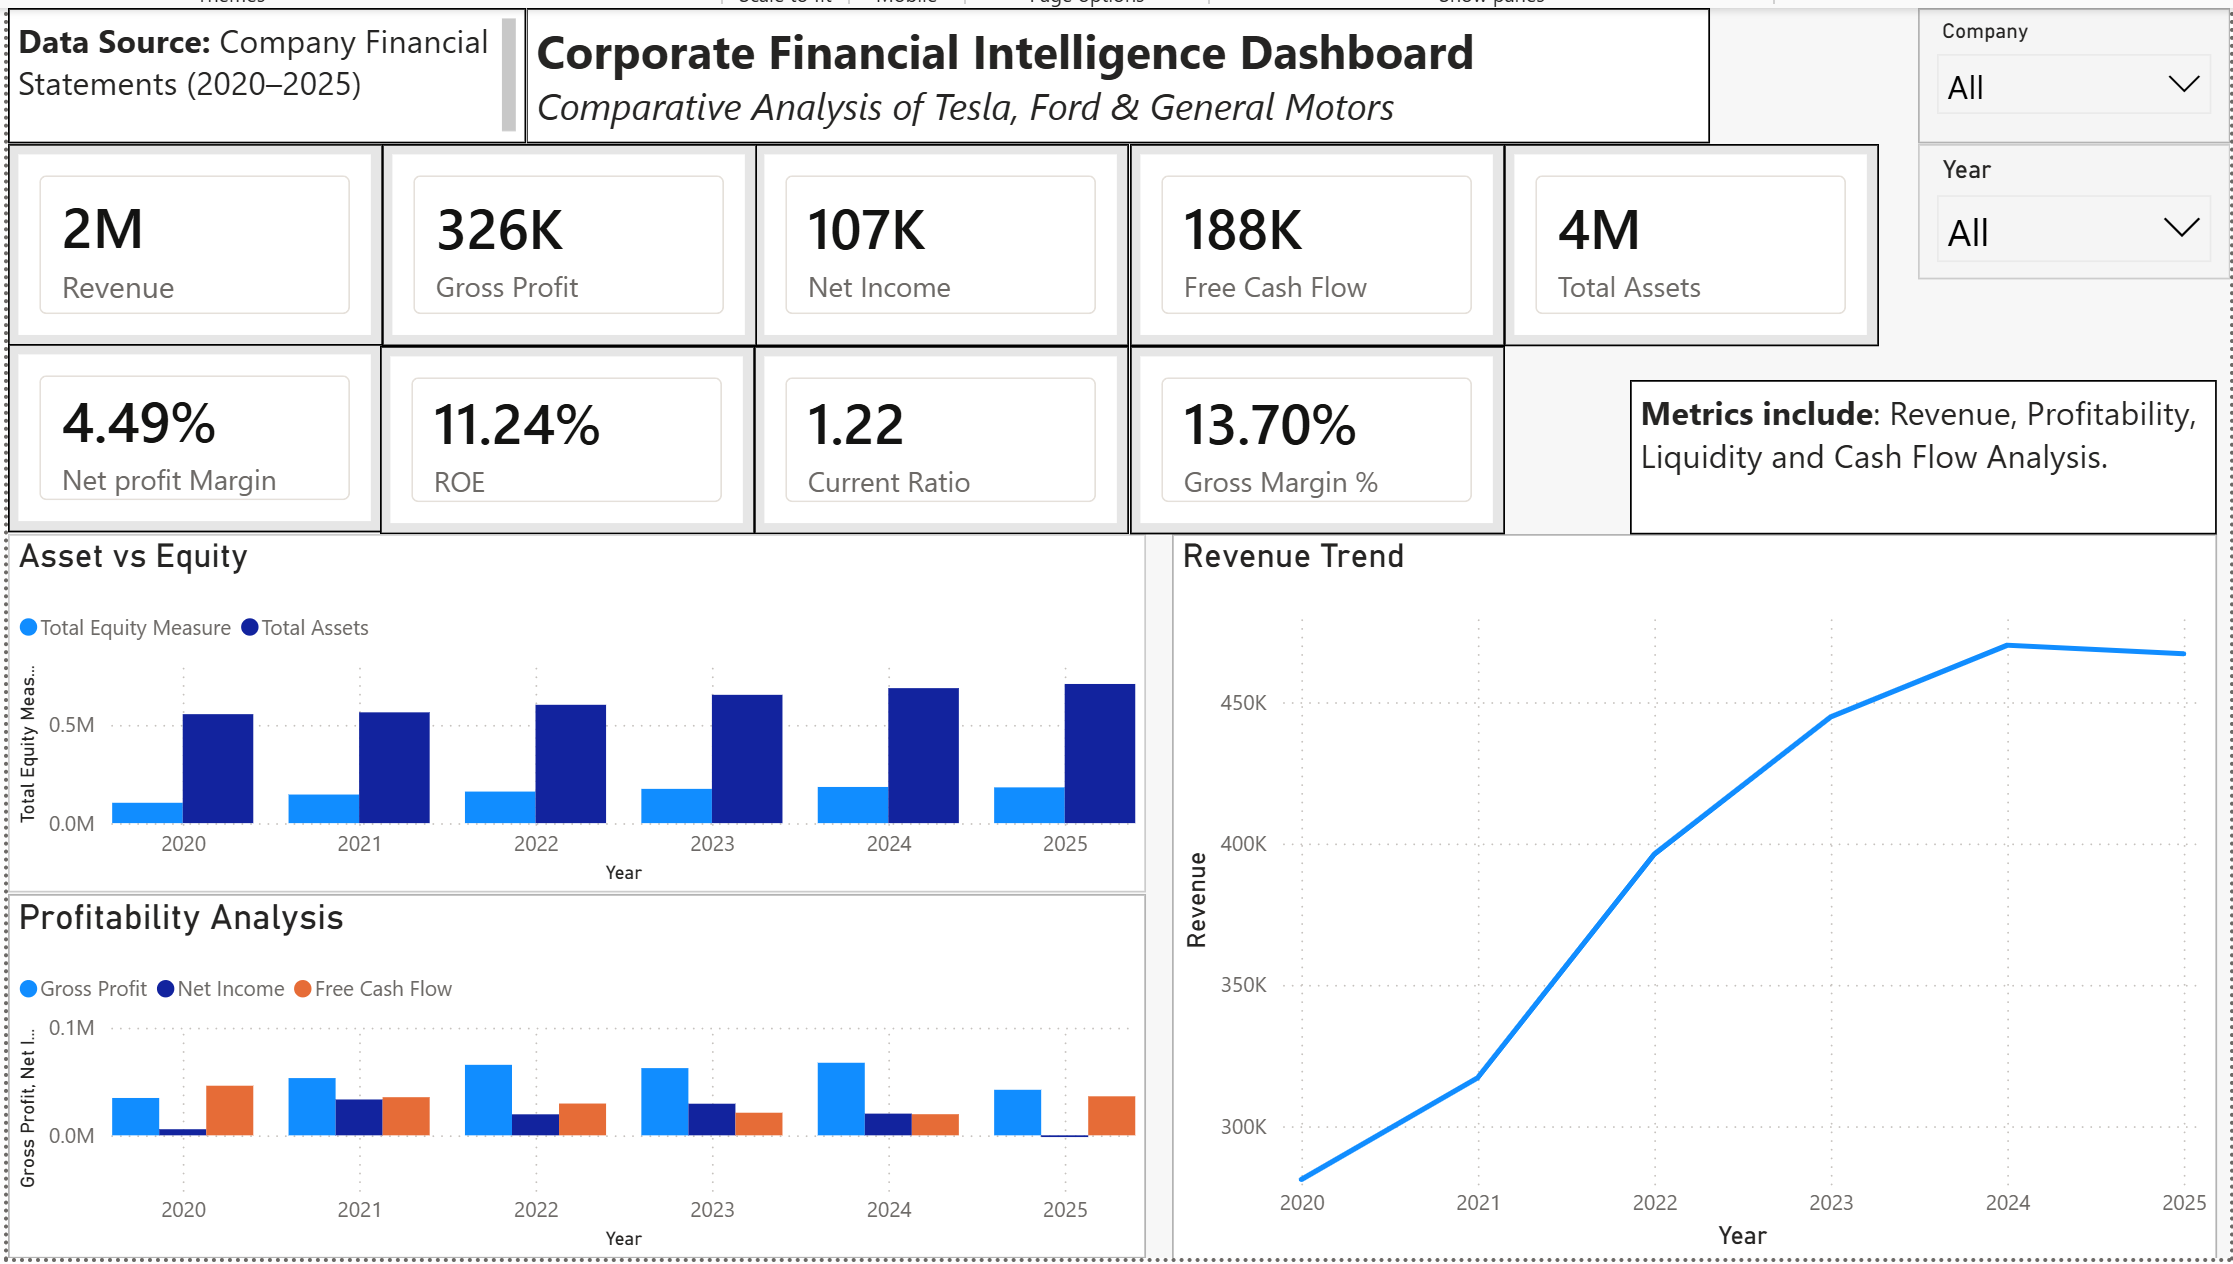

This screenshot's page, from the dashboard's own definition file:
{"tool":"powerbi","page":{"name":"Executive Overview","canvas":[1280,720],"ordinal":0},"visuals":[{"type":"cardVisual","fields":{"Data":["Income_Statement.Revenue Measure"]},"box":[0,77.8,215.9,116.4],"z":0},{"type":"cardVisual","fields":{"Data":["Income_Statement.Net Income Measure"]},"box":[429.6,77.8,215.9,116.4],"z":1000},{"type":"cardVisual","fields":{"Data":["Income_Statement.Gross Profit Measure"]},"box":[215.5,77.8,215.9,116.4],"z":2000},{"type":"cardVisual","fields":{"Data":["Income_Statement.Total Assets Measure"]},"box":[861.8,77.8,215.9,116.4],"z":3000},{"type":"cardVisual","fields":{"Data":["Income_Statement.Net profit Margin"]},"box":[0,193.8,215.9,108.7],"z":4000},{"type":"cardVisual","fields":{"Data":["Balance_Sheet.ROE"]},"box":[214.2,195.1,215.9,108.7],"z":5000},{"type":"cardVisual","fields":{"Data":["Balance_Sheet.Current Ratio"]},"box":[429.6,195.1,215.9,108.7],"z":6000},{"type":"cardVisual","fields":{"Data":["Cash_Flow.Free Cash Flow"]},"box":[646.4,77.8,215.9,116.4],"z":7000},{"type":"clusteredColumnChart","title":"Profitability Analysis","fields":{"Category":["Calendar.Year"],"Y":["Income_Statement.Gross Profit Measure","Income_Statement.Net Income Measure","Cash_Flow.Free Cash Flow"]},"box":[0,510,655.3,210],"z":8000},{"type":"clusteredColumnChart","title":"Asset vs Equity","fields":{"Category":["Calendar.Year"],"Y":["Balance_Sheet.Total Equity Measure","Income_Statement.Total Assets Measure"]},"box":[0,303.4,655.3,206.5],"z":9000},{"type":"slicer","fields":{"Values":["Companies.Company"]},"box":[1100.2,0,179.8,77.8],"z":10000},{"type":"slicer","fields":{"Values":["Calendar.Year"]},"box":[1100.2,77.8,179.8,77.8],"z":11000},{"type":"textbox","box":[298.3,0,682.1,77.8],"z":12000},{"type":"lineChart","title":"Revenue Trend","fields":{"Category":["Calendar.Year"],"Y":["Income_Statement.Revenue Trend"]},"box":[670.6,303.4,601.8,418.2],"z":13000},{"type":"cardVisual","fields":{"Data":["Income_Statement.Gross % Margin"]},"box":[646.4,195.1,215.9,108.7],"z":14000},{"type":"textbox","box":[0,0,298.3,77.8],"z":14001},{"type":"textbox","box":[934.5,214.2,337.8,89.2],"z":14002}]}

Visuals, with their boxes in screenshot pixels (x1, y1, x2, y2):
cardVisual - Income_Statement.Revenue Measure: 6/140/377/340
cardVisual - Income_Statement.Net Income Measure: 745/140/1116/340
cardVisual - Income_Statement.Gross Profit Measure: 377/140/748/340
cardVisual - Income_Statement.Total Assets Measure: 1488/140/1860/340
cardVisual - Income_Statement.Net profit Margin: 6/339/377/526
cardVisual - Balance_Sheet.ROE: 374/341/746/528
cardVisual - Balance_Sheet.Current Ratio: 745/341/1116/528
cardVisual - Cash_Flow.Free Cash Flow: 1118/140/1489/340
"Profitability Analysis" clusteredColumnChart: 6/883/1133/1245
"Asset vs Equity" clusteredColumnChart: 6/528/1133/883
slicer - Companies.Company: 1899/6/2208/140
slicer - Calendar.Year: 1899/140/2208/274
textbox: 519/6/1693/140
"Revenue Trend" lineChart: 1160/528/2195/1247
cardVisual - Income_Statement.Gross % Margin: 1118/341/1489/528
textbox: 6/6/519/140
textbox: 1614/374/2195/528
